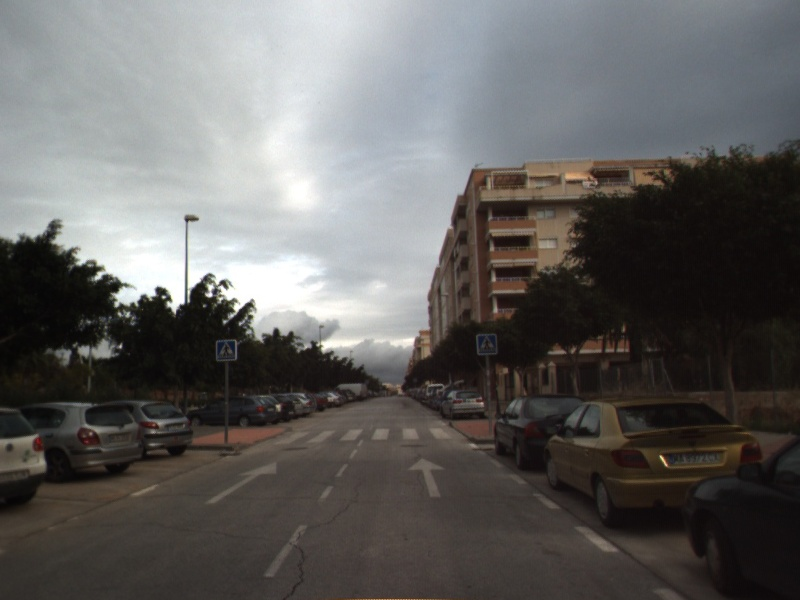STRAIGHT: (204, 461, 278, 505), (406, 456, 448, 499)
